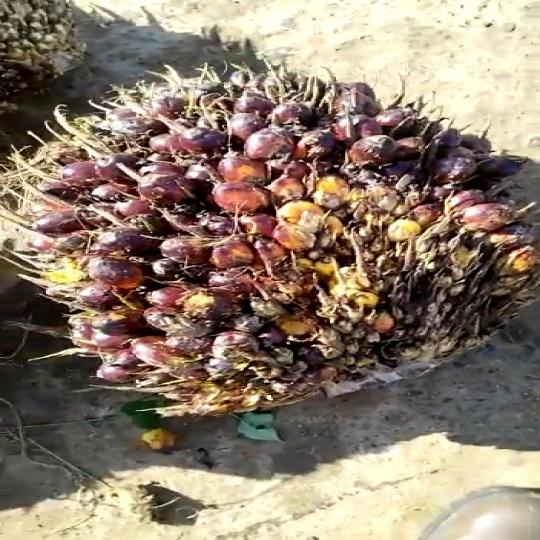kurang masak: (0, 60, 540, 422)
